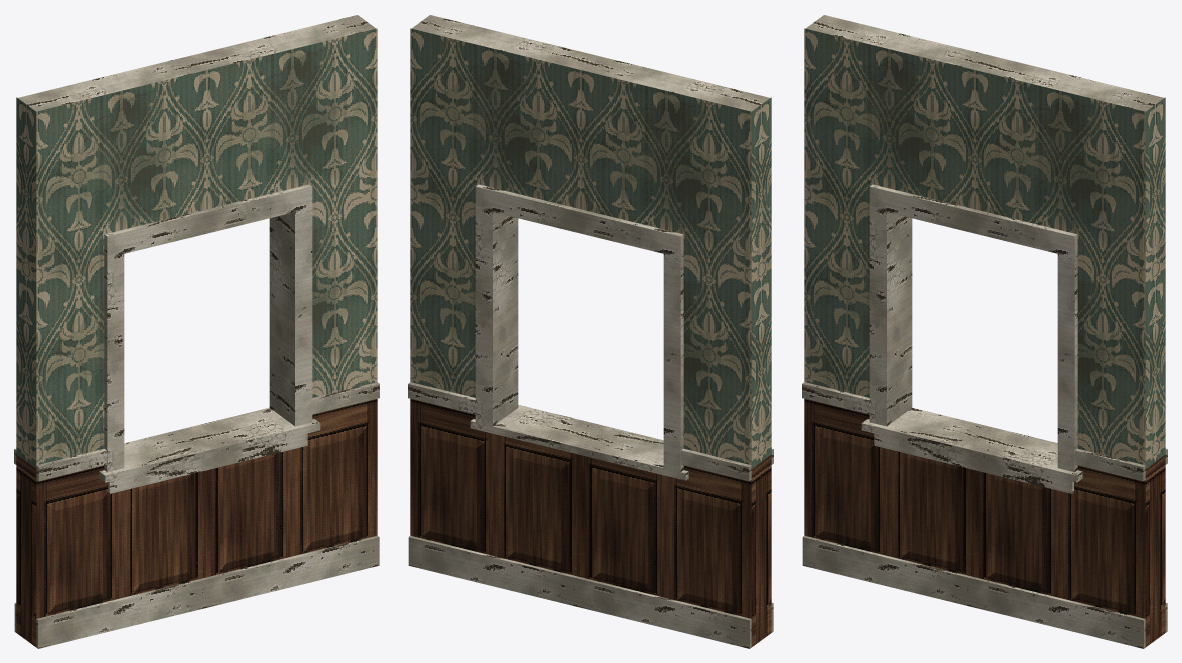
The model's file is house_wall_window.glb.
3 views of the same model, side by side, from view 1: azimuth 30°, elevation 25°; view 2: azimuth 150°, elevation 25°; view 3: azimuth 330°, elevation 25° (orthographic).
Visible parts, largest first — view 1: house_wall_window; view 2: house_wall_window; view 3: house_wall_window.
Part boxes in pixels (x1,y1,x2,y2): house_wall_window: (14,15,379,648); house_wall_window: (408,15,773,648); house_wall_window: (802,15,1167,648).
Size of the model in its own units: 2 by 3 by 0.29.
3 materials, 3 textured.
